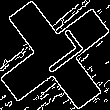L_SW: (26, 27, 84, 83)
